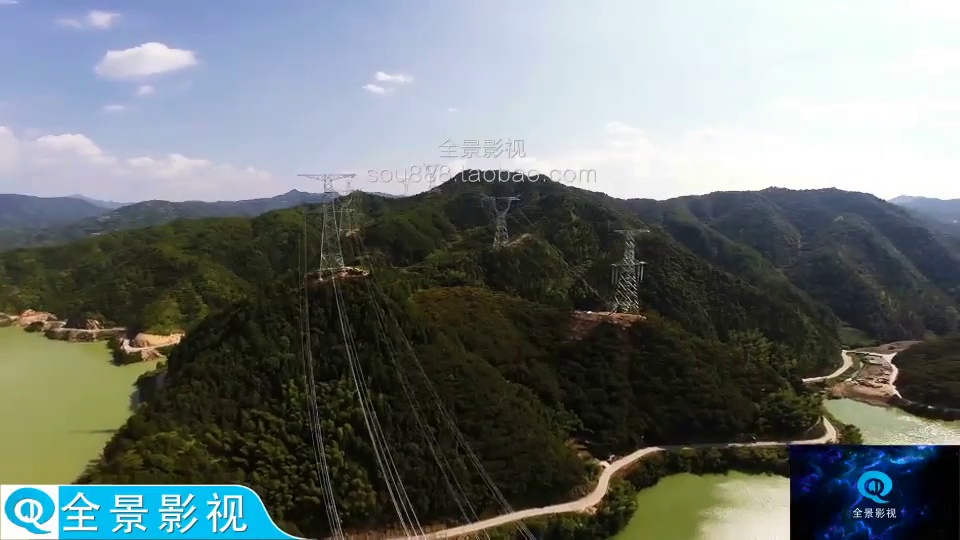tower_body: (290, 166, 368, 284), (601, 221, 656, 317), (473, 188, 535, 252)
tower_foot: (313, 247, 349, 278), (610, 282, 639, 313)
tower_head: (477, 195, 529, 223), (295, 169, 357, 189), (606, 226, 653, 241)
